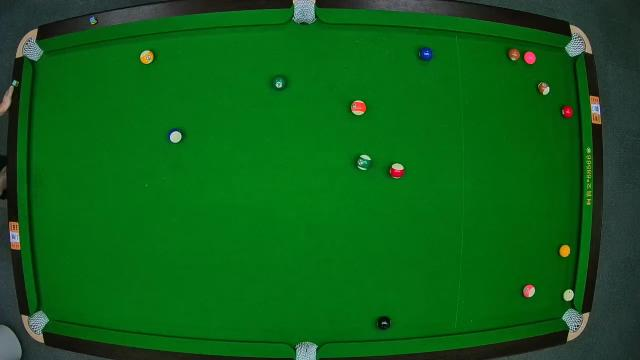bag1: (20, 40, 40, 61)
bag2: (292, 1, 316, 25)
bag3: (566, 35, 588, 55)
bag4: (28, 311, 48, 333)
bag5: (293, 340, 319, 360)
bag6: (562, 308, 582, 332)
ball0: (562, 290, 574, 302)
ball1: (559, 244, 571, 258)
ball10: (168, 129, 184, 145)
ball11: (388, 162, 404, 178)
ball12: (523, 284, 537, 298)
ball13: (351, 100, 367, 116)
ball14: (354, 153, 372, 171)
ball15: (538, 82, 550, 94)
ball2: (418, 46, 434, 62)
ball3: (560, 104, 576, 118)
ball4: (524, 51, 536, 65)
ball6: (271, 75, 289, 91)
ball7: (506, 47, 520, 61)
ball8: (376, 316, 392, 330)
ball9: (139, 49, 155, 65)
